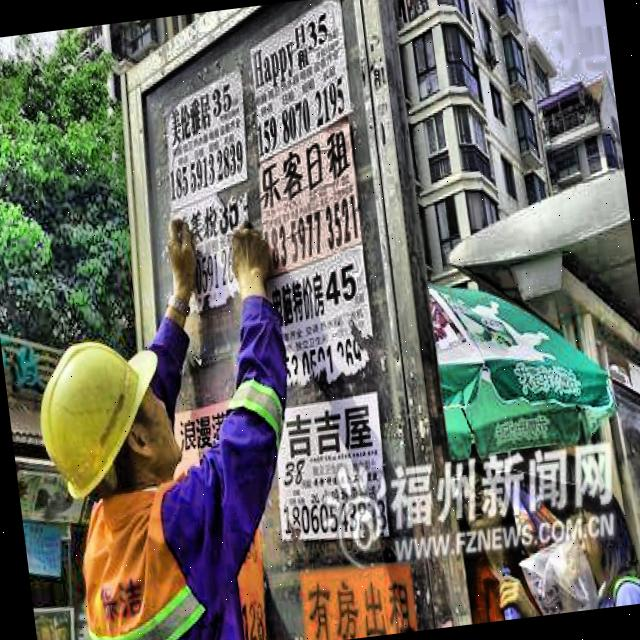helmet: (25, 316, 191, 518)
